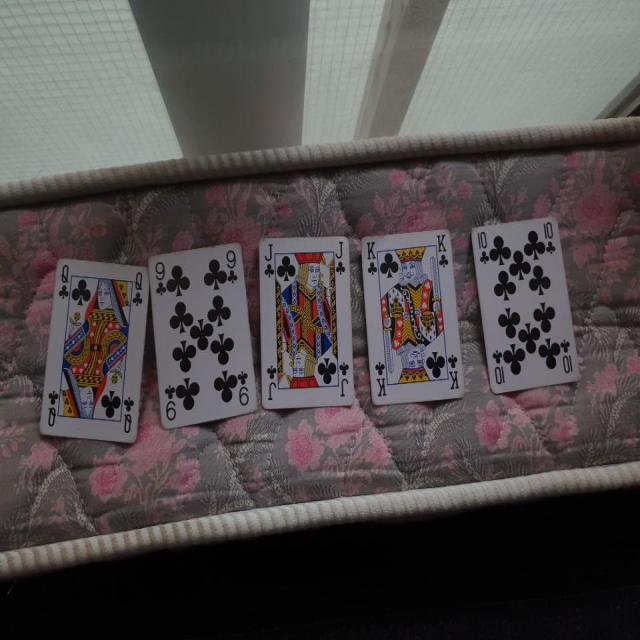10 of clubs: (468, 216, 585, 397)
9 of clubs: (147, 241, 259, 433)
jack of clubs: (256, 230, 354, 409)
king of clubs: (360, 226, 468, 408)
queen of clubs: (38, 255, 152, 446)
